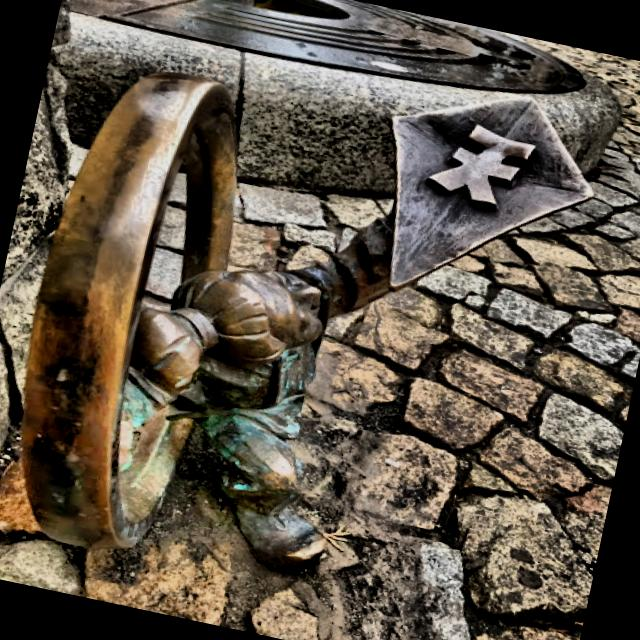TianTian: (22, 73, 591, 571)
